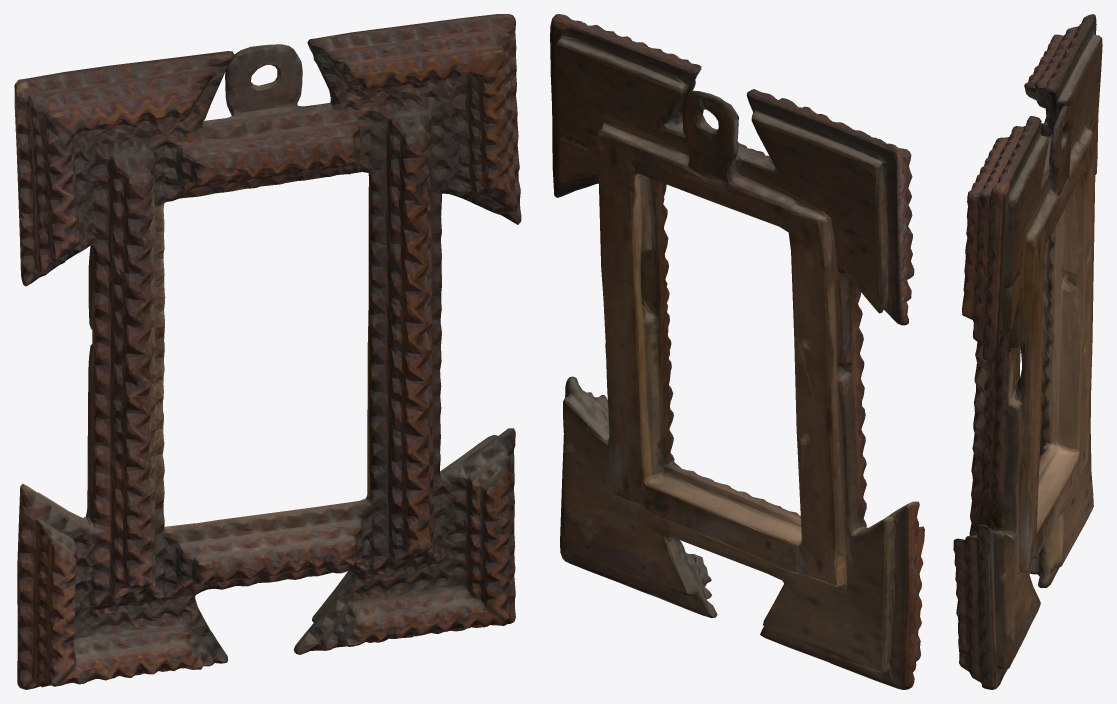
The picture shows the model from 3 angles, left to right: view 1: azimuth 30°, elevation 25°; view 2: azimuth 150°, elevation 25°; view 3: azimuth 270°, elevation 25°; orthographic projection. The views are drawn at different scales.
Visible parts, largest first — view 1: Bilderrahmen 2_20k_2k; view 2: Bilderrahmen 2_20k_2k; view 3: Bilderrahmen 2_20k_2k.
Boxes of the visible parts, x1,y1,x2,y2 form: Bilderrahmen 2_20k_2k: (14,14,521,689); Bilderrahmen 2_20k_2k: (550,14,924,689); Bilderrahmen 2_20k_2k: (953,14,1102,689).
Size of the model in its own units: 0.1469 by 0.1891 by 0.0504.
Materials: 1 (1 with a texture image).
